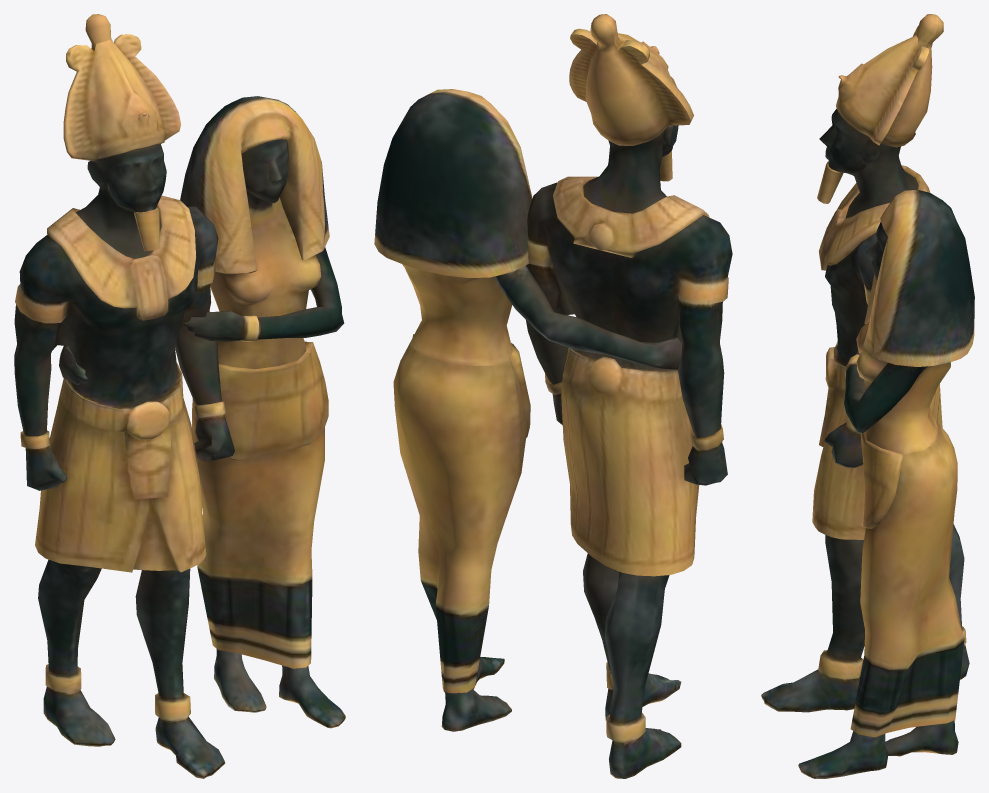
Rendered from 128-monumenttopharaohs.glb.
3 renders of one model, left to right at view 1: azimuth 30°, elevation 25°; view 2: azimuth 150°, elevation 25°; view 3: azimuth 270°, elevation 25°, orthographic. The views are drawn at different scales.
Bounding box in the file's own units: 3.06 × 6.56 × 1.87.
Materials: 1 (1 with a texture image).
